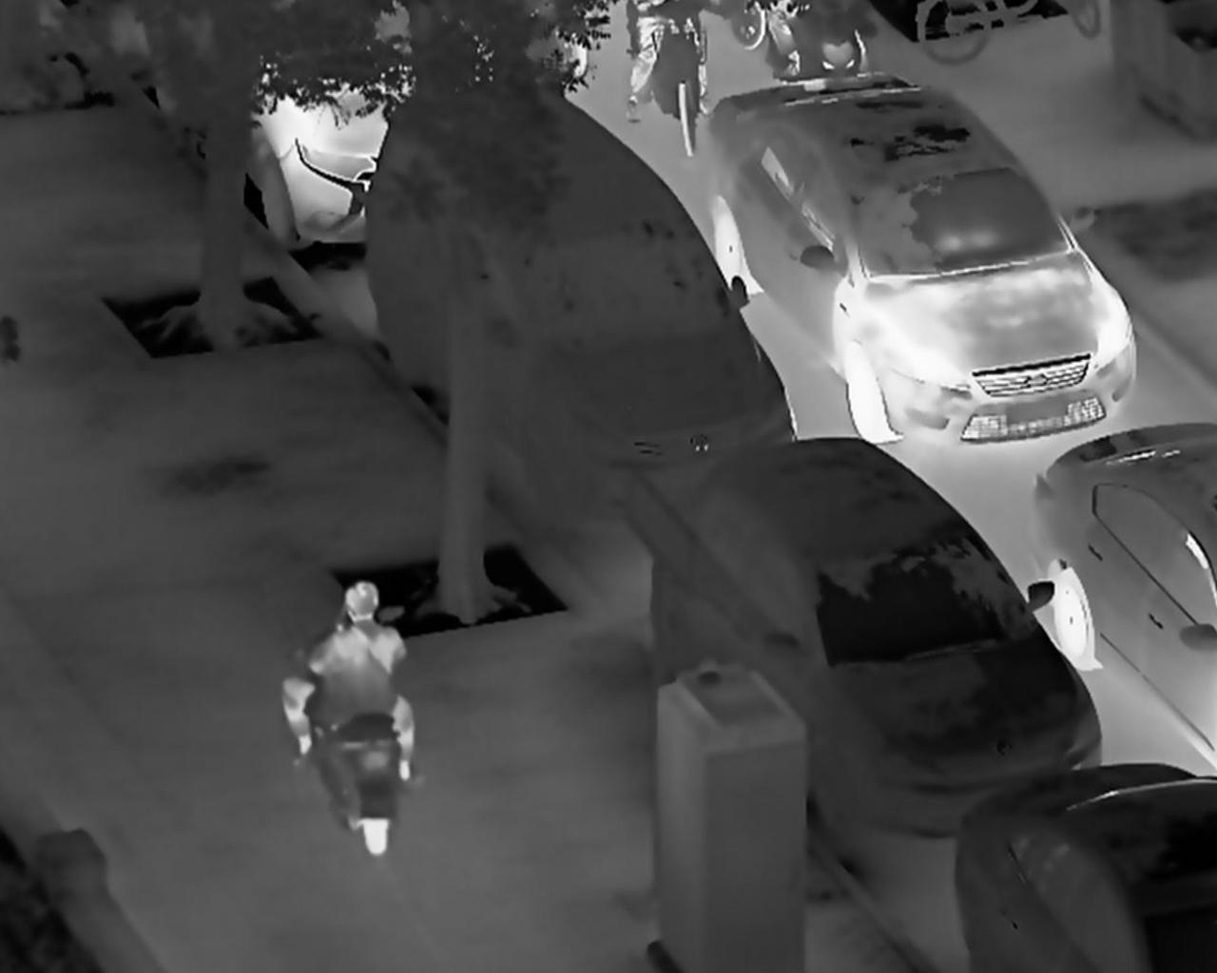person: (278, 575, 426, 795)
